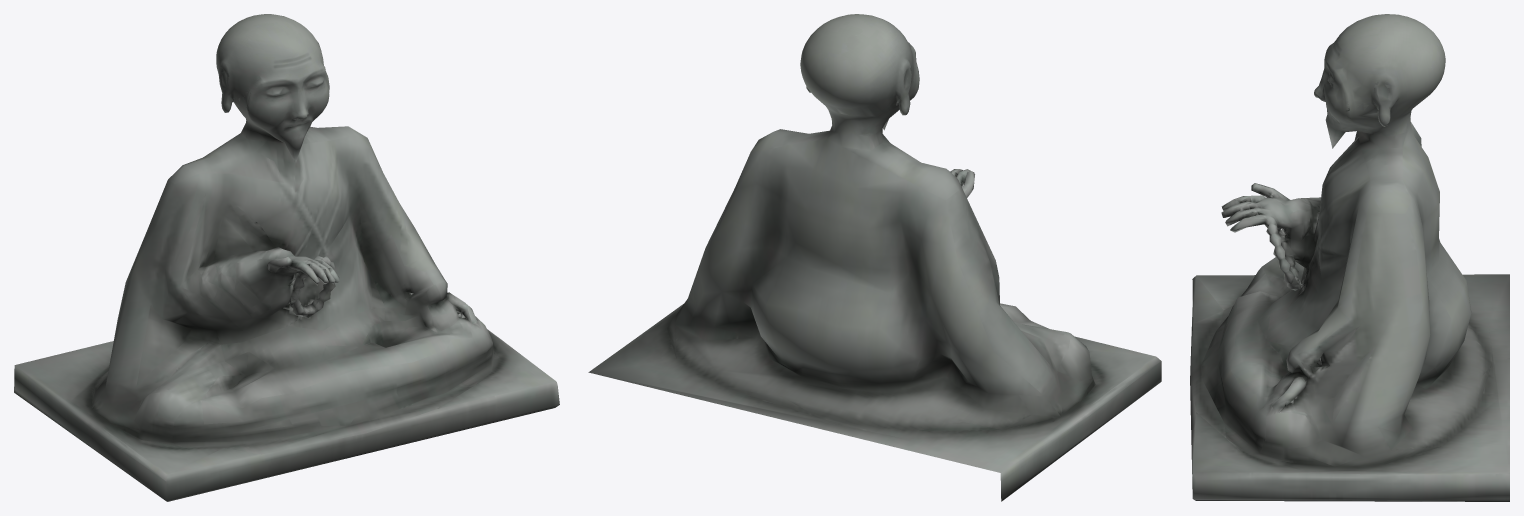
File: arhat_truong.glb
The picture shows the model from 3 angles, left to right: view 1: azimuth 30°, elevation 25°; view 2: azimuth 150°, elevation 25°; view 3: azimuth 270°, elevation 25°; orthographic projection. The views are drawn at different scales.
Visible parts, largest first — view 1: arhat_truong; view 2: arhat_truong; view 3: arhat_truong.
Boxes of the visible parts, box(x1,y1,x2,y2) form: arhat_truong: box(14, 14, 559, 501); arhat_truong: box(588, 14, 1161, 501); arhat_truong: box(1190, 14, 1509, 501).
Bounding box in the file's own units: 1.21 × 1.07 × 0.8094.
1 material, 1 textured.
